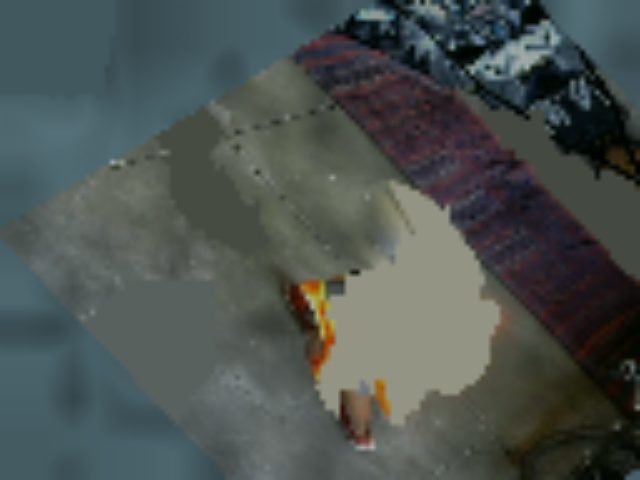three: (410, 229, 472, 281)
